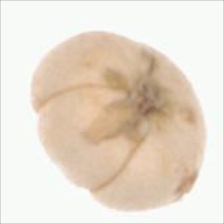L5: (35, 81, 151, 194), (101, 52, 182, 149)
L6: (23, 30, 207, 214)
